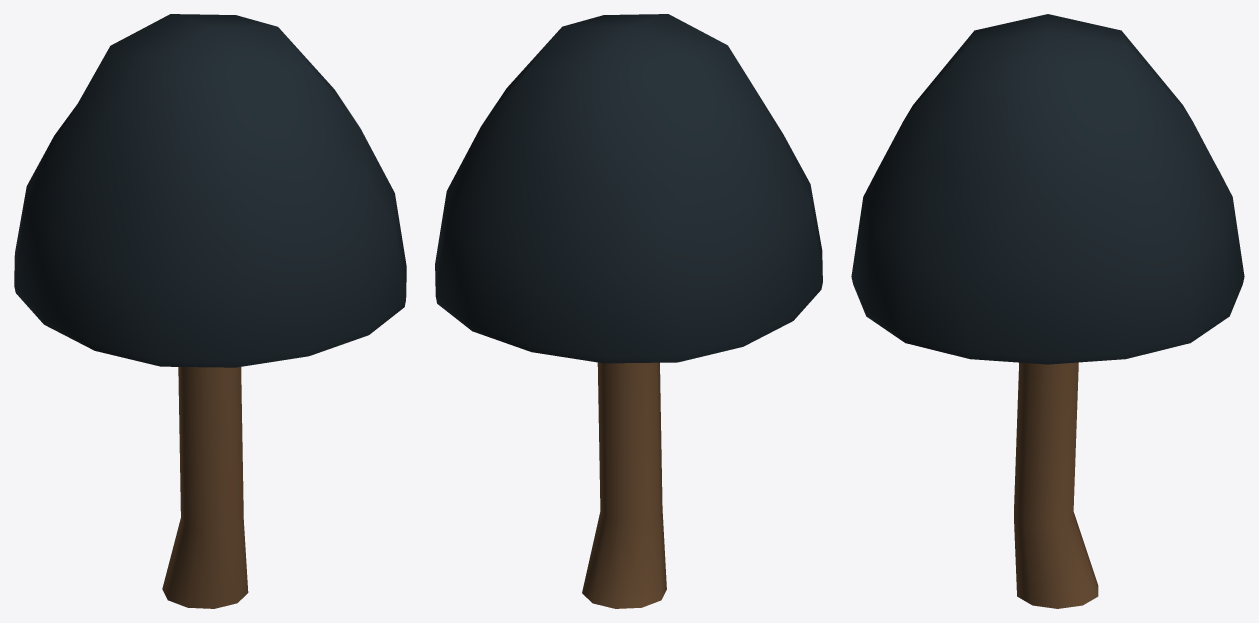
The model's file is BlueTree.FBX.
The picture shows the model from 3 angles, left to right: view 1: azimuth 30°, elevation 25°; view 2: azimuth 150°, elevation 25°; view 3: azimuth 270°, elevation 25°; orthographic projection.
Parts seen in each view (by area): view 1: BlueTree; view 2: BlueTree; view 3: BlueTree.
Boxes of the visible parts, <box> form: BlueTree: <box>14,14,406,608</box>; BlueTree: <box>435,14,822,608</box>; BlueTree: <box>851,14,1244,608</box>.
Size of the model in its own units: 76.34 by 123 by 78.32.
